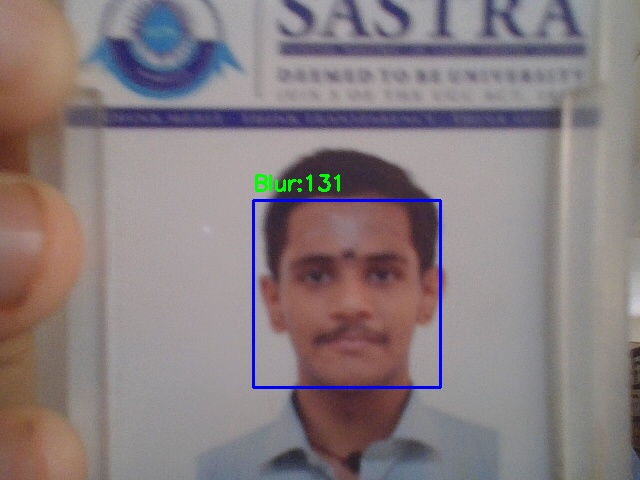fake: (253, 200, 440, 387)
